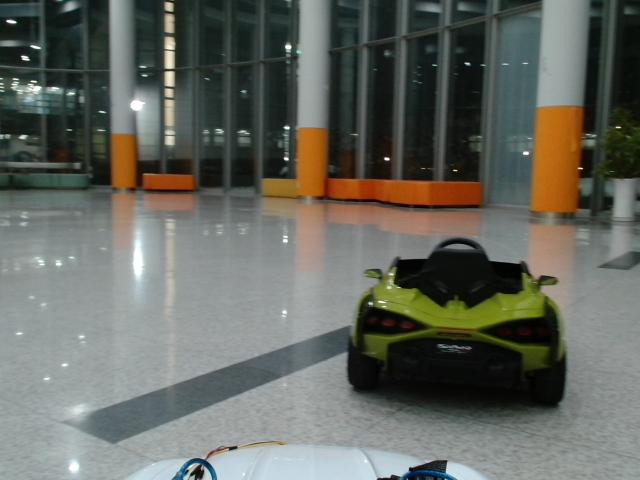car: (347, 237, 567, 408)
